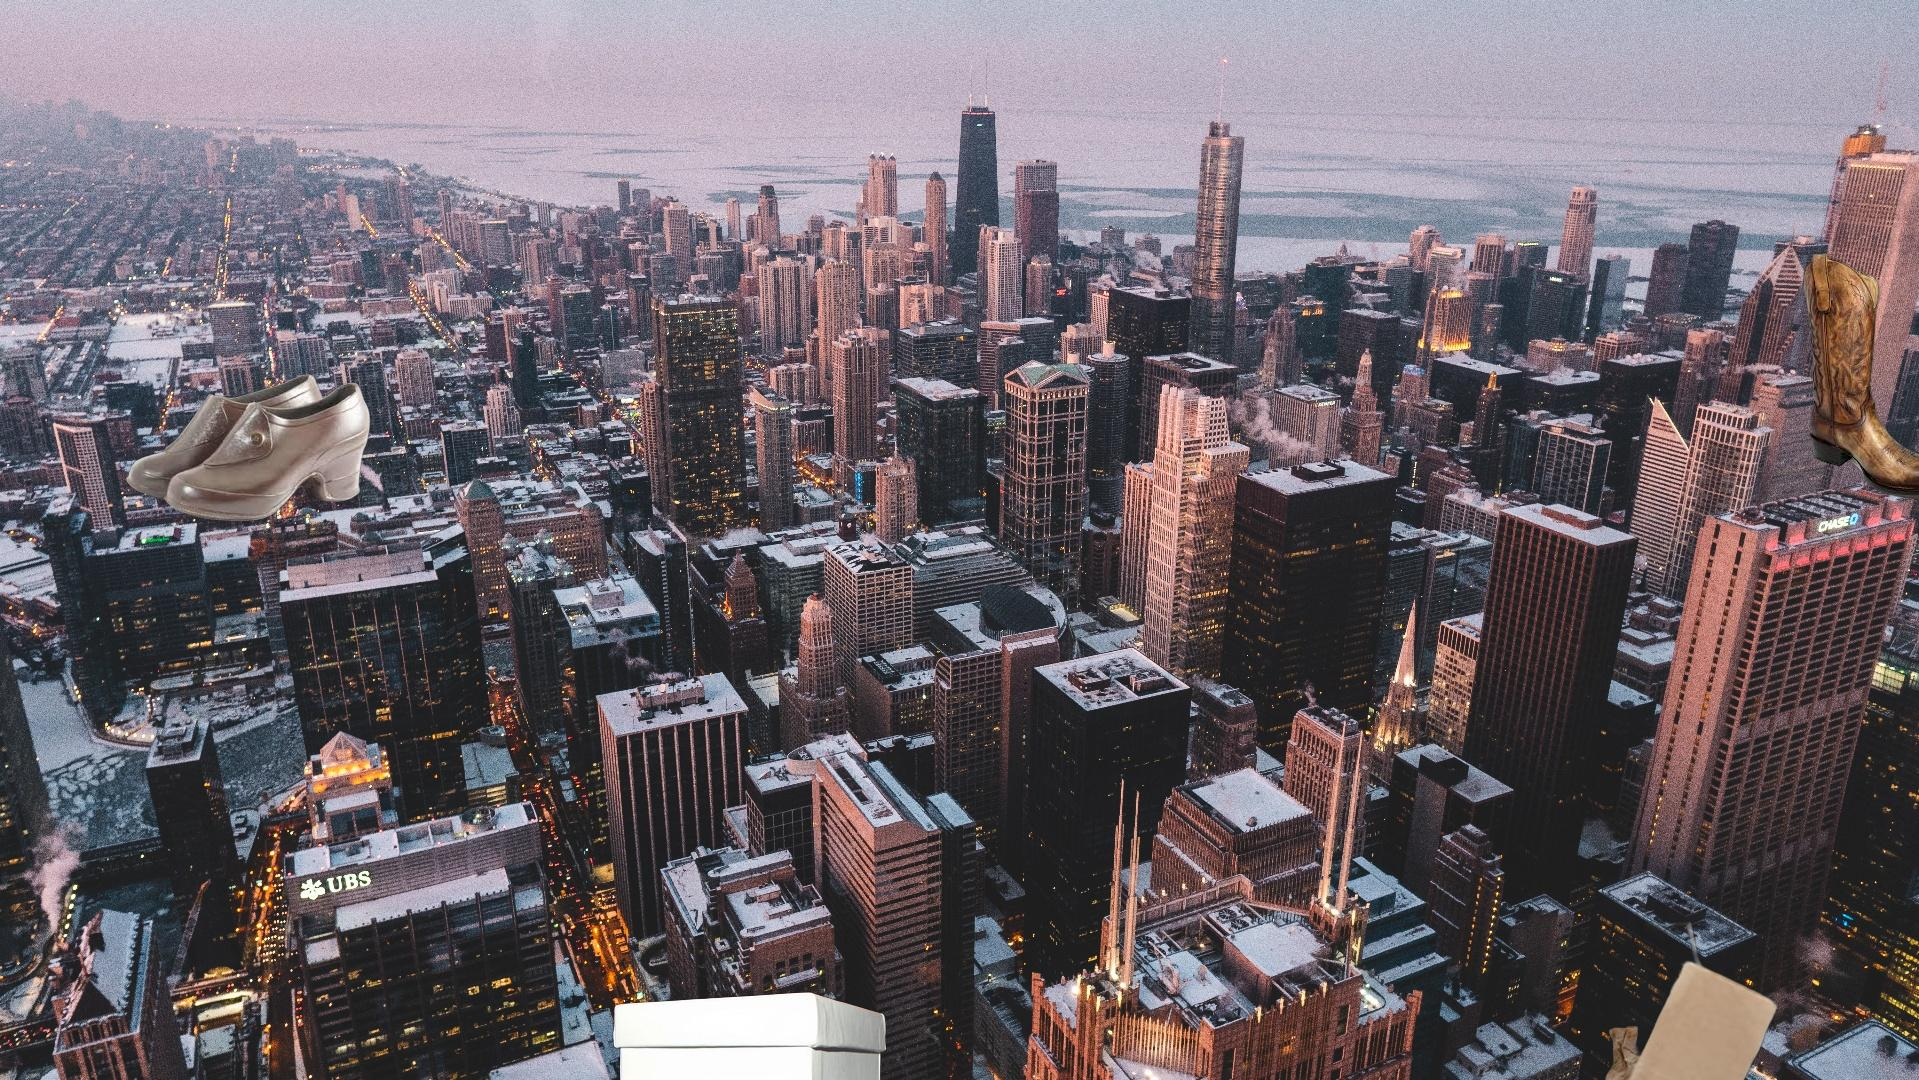paper-bag: (1601, 916, 1781, 1080)
shoes: (123, 371, 373, 524), (1800, 251, 1919, 502)
trashbox-cardboard: (610, 989, 890, 1080)
